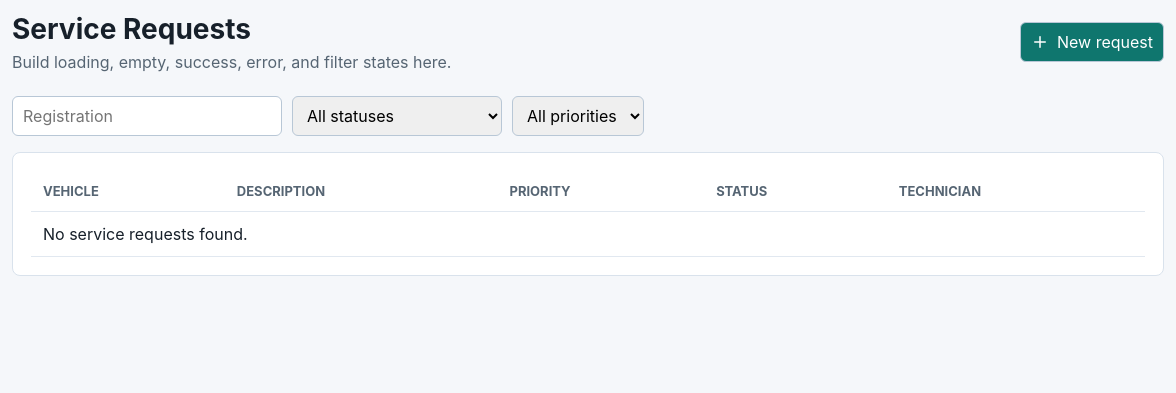
it: ServiceRequestsPage training exercises › closes the request form
Click the button "New request": x=1092, y=42 top-left (1020, 22), bottom-right (1164, 62)
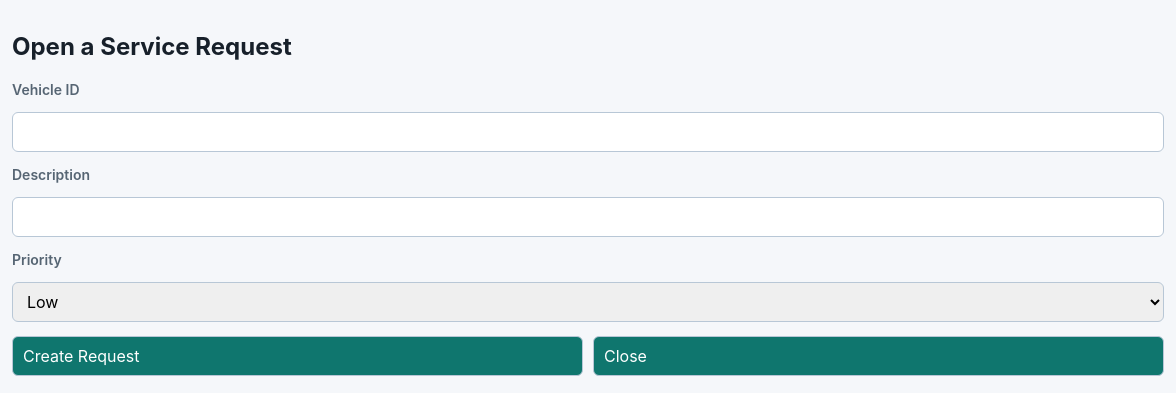
Click the button "Close": x=625, y=356 top-left (593, 336), bottom-right (1164, 376)
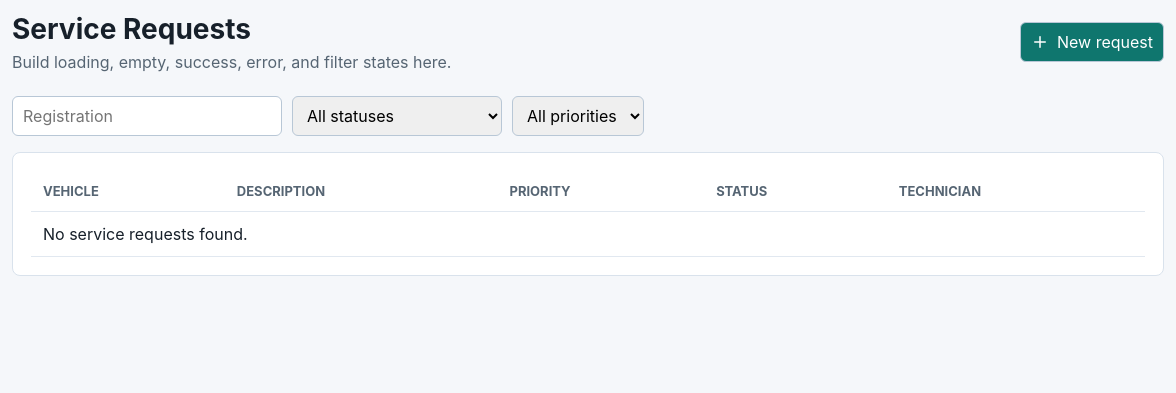
Expected: the heading "Open a Service Request" is gone
Expected: the heading "Service Requests" is shown, top-left (12, 12), bottom-right (251, 46)
